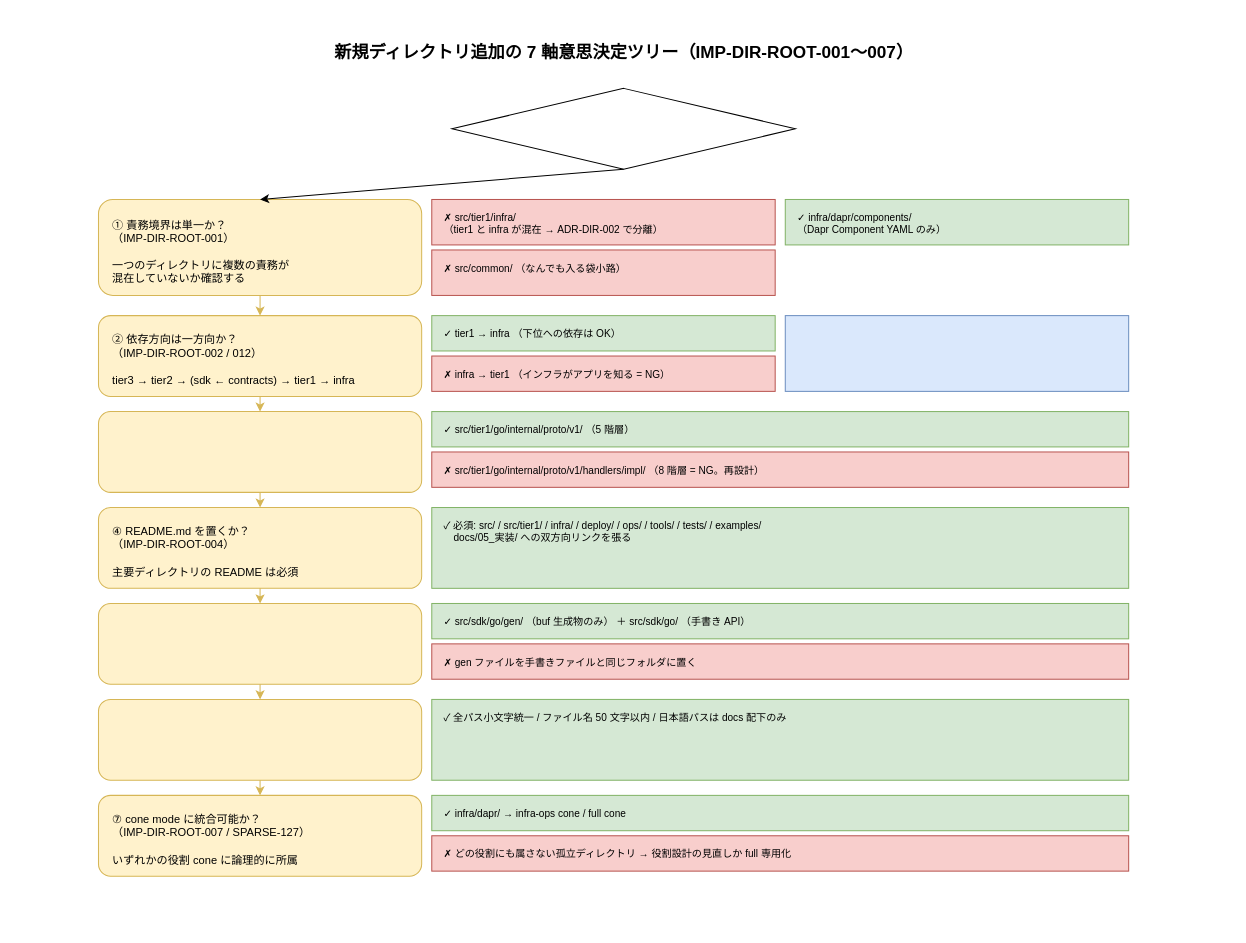
Some shapes in this 1246 by 943 pixel diagram are drawn without their labels. Here are the shapes that lost their labels. From the top down, the centre of each, then its label:
pixel 623 128: 新しいディレクトリを追加したい
pixel 956 353: CI 検知: importchecker / go vet / buf breaking / cargo-deny
pixel 259 451: ③ 深さは 5 階層以内か？ （IMP-DIR-ROOT-003） リポジトリルートから数えて最大 5 階層
pixel 259 643: ⑤ 生成物と手書きを分離できるか？ （IMP-DIR-ROOT-005） 生成コード ≠ 手書き・混在させない
pixel 259 739: ⑥ 命名衝突がないか？ （IMP-DIR-ROOT-006） Windows 大小文字区別 / パス長 260 文字制限
